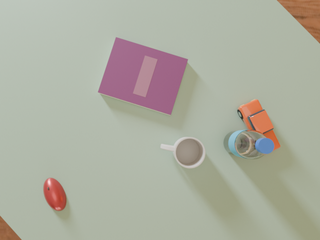book: (98, 37, 188, 115)
bottle: (224, 129, 274, 159)
cup: (161, 137, 205, 168)
mouse: (43, 178, 66, 211)
toy_car: (238, 99, 280, 151)
